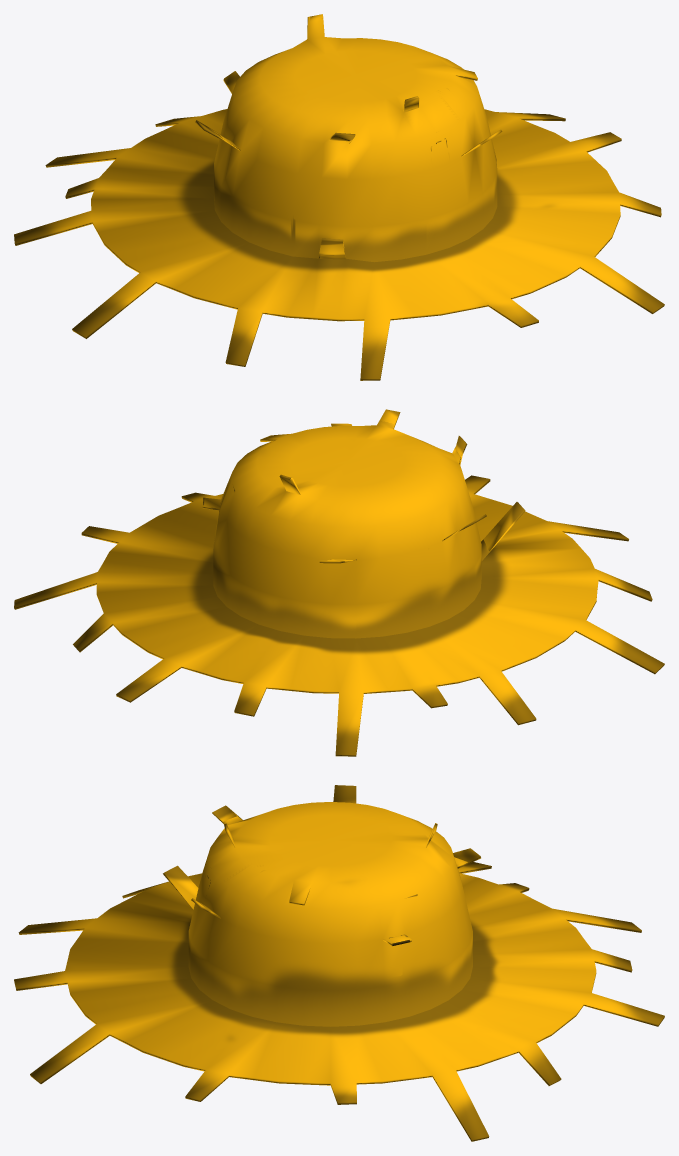
File: HatBoy.fbx
3 renders of one model, top to bottom at view 1: azimuth 30°, elevation 25°; view 2: azimuth 150°, elevation 25°; view 3: azimuth 270°, elevation 25°, orthographic. The views are drawn at different scales.
Visible parts, largest first — view 1: Circle; view 2: Circle; view 3: Circle.
Part boxes in pixels (box(x1,y1,x2,y2)): Circle: box(14, 14, 664, 380); Circle: box(14, 409, 664, 756); Circle: box(14, 785, 664, 1141).
Bounding box in the file's own units: 255 × 77.04 × 245.
